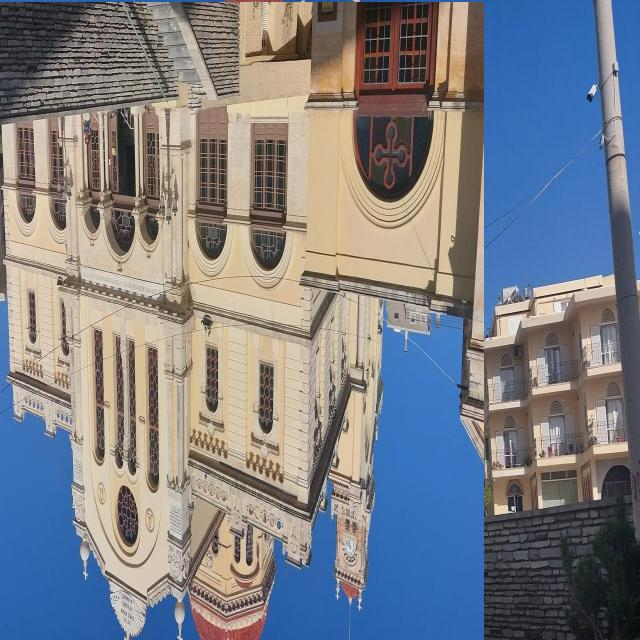Agios Minas: (1, 3, 485, 640)
